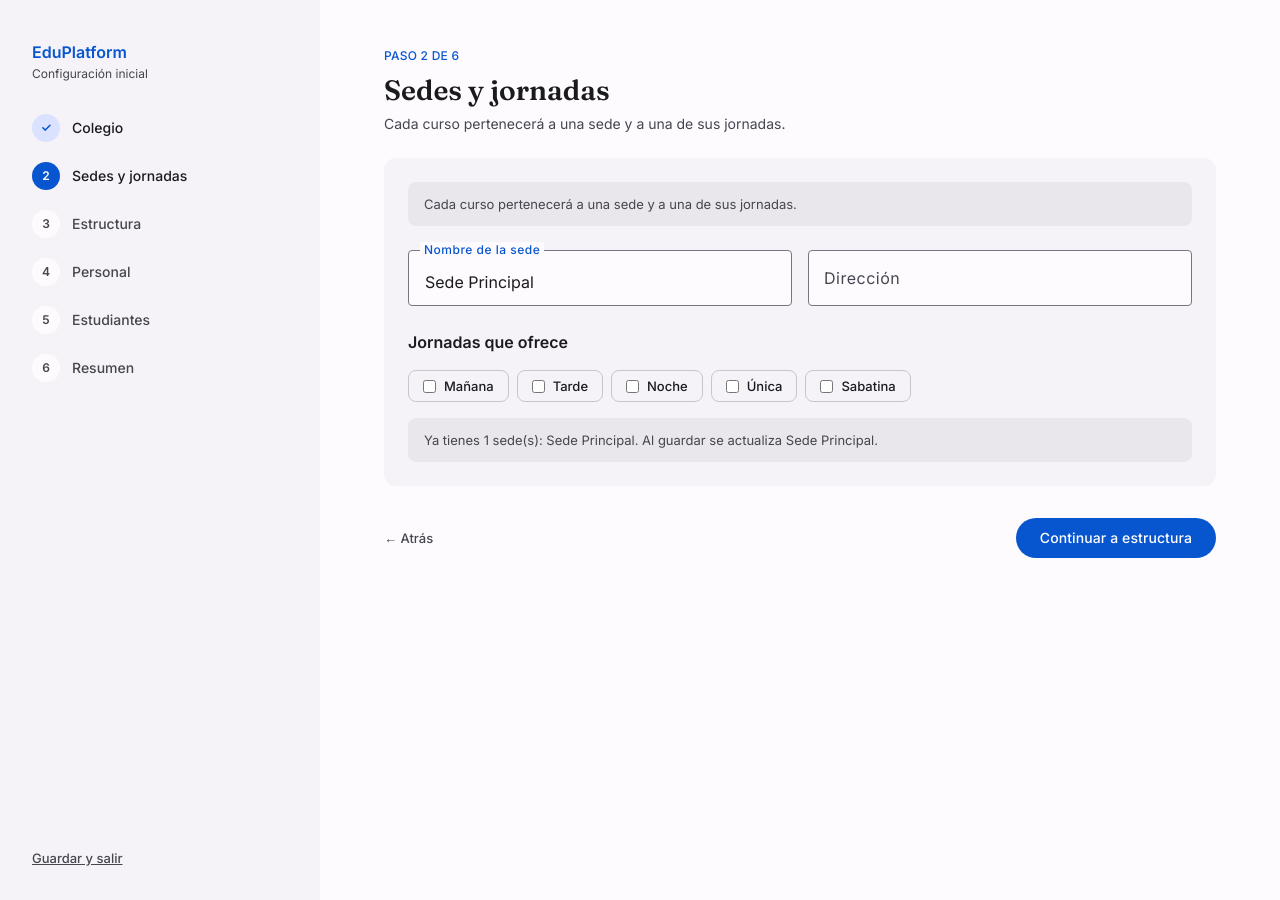
Test case: Onboarding · paso 1 (identidad) › «Guardar y salir» pide la jornada si la sede no tiene
Expected: the heading "Sedes y jornadas" is shown, [384,73,610,107]
Click the button "Guardar y salir". click: (160, 858)
box: [32,848,288,868]
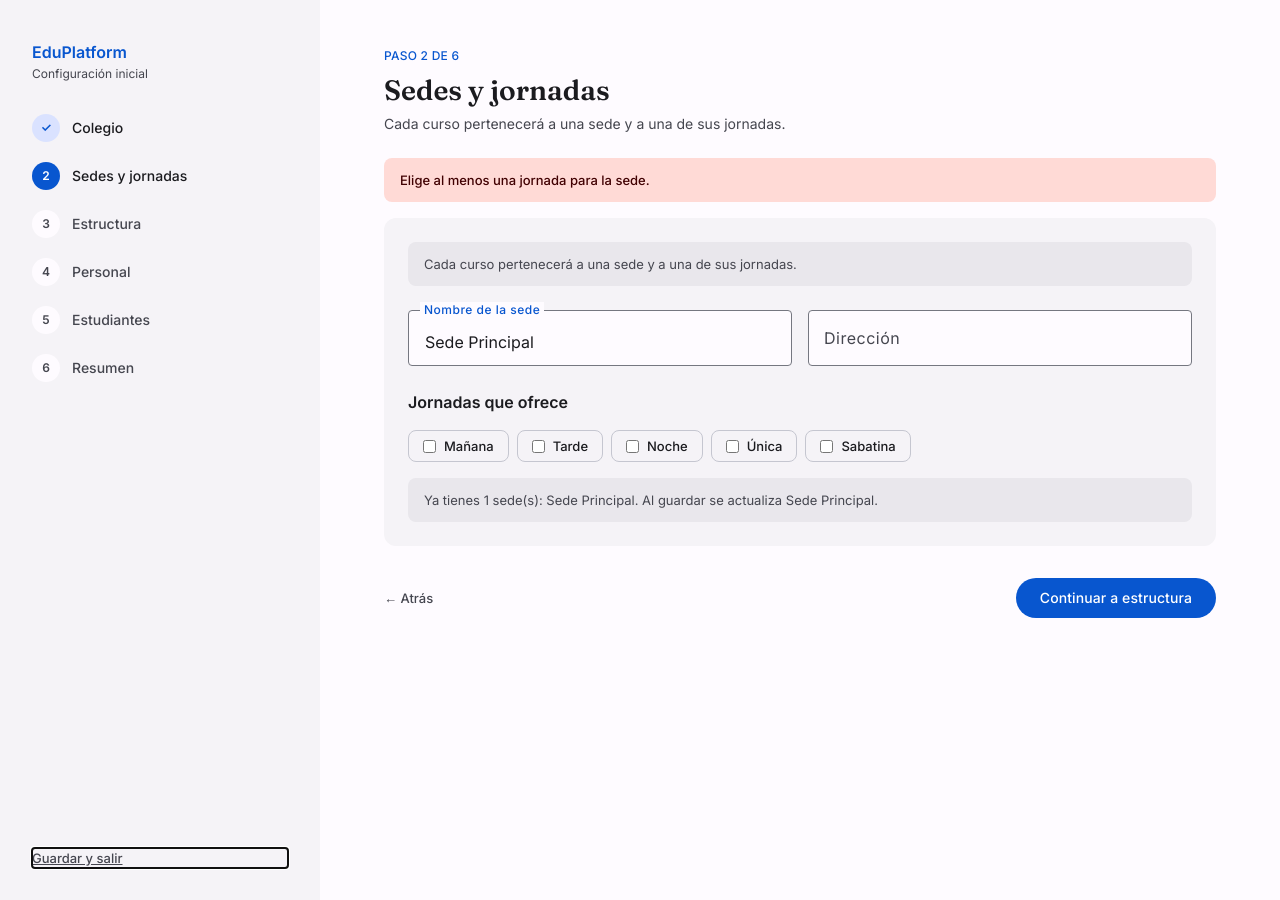
Now the text "Elige al menos una jornada para la sede." is shown, box [384,158,1216,202]
